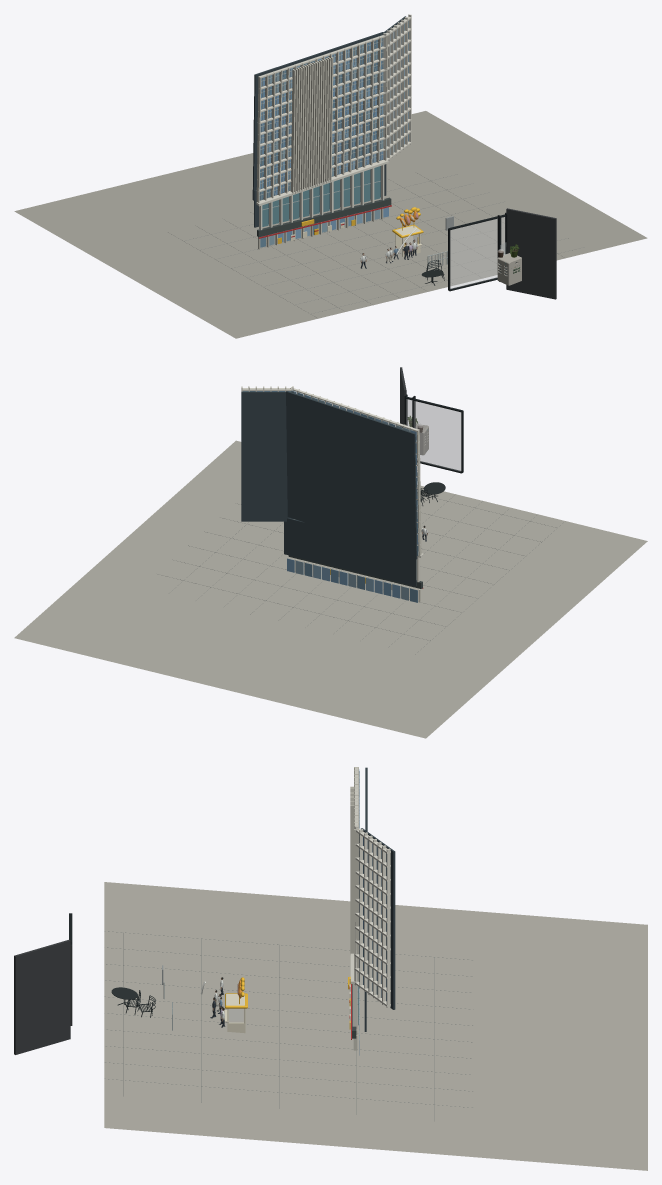
Rendered from scene-0-ours.glb.
The picture shows the model from 3 angles, top to bottom: view 1: azimuth 30°, elevation 25°; view 2: azimuth 150°, elevation 25°; view 3: azimuth 270°, elevation 25°; orthographic projection. The views are drawn at different scales.
Parts seen in each view (by area): view 1: Exterior paving plane, Right interior wall, Main clear window pane, Main facade backing shell, Dark storefront sign fascia, Street level recessed shell, Rounded rental kiosk cabinet, Main facade heavy lower cornice, Dense projecting vertical architectural fin 0; view 2: Exterior paving plane, Main facade backing shell, Return facade interior shell, Street level recessed shell, Main clear window pane; view 3: Exterior paving plane, Right interior wall, Return facade interior shell, Return facade upright 7, Return facade upright 5, Return facade upright 3, High rise vertical stone rib 18, Dense projecting vertical architectural fin 17.
Part boxes in pixels (box(x1,y1,x2,y2)): Exterior paving plane: box(14, 111, 647, 338); Right interior wall: box(506, 208, 556, 299); Main clear window pane: box(450, 219, 497, 288); Main facade backing shell: box(252, 32, 383, 200); Dark storefront sign fascia: box(257, 197, 391, 237); Street level recessed shell: box(254, 162, 386, 227); Rounded rental kiosk cabinet: box(497, 257, 521, 285); Main facade heavy lower cornice: box(256, 160, 388, 206); Dense projecting vertical architectural fin 0: box(290, 69, 295, 194); Exterior paving plane: box(14, 440, 647, 738); Main facade backing shell: box(286, 391, 417, 559); Return facade interior shell: box(241, 391, 293, 521); Street level recessed shell: box(284, 518, 416, 586); Main clear window pane: box(414, 401, 460, 471); Exterior paving plane: box(104, 882, 647, 1170); Right interior wall: box(14, 940, 70, 1054); Return facade interior shell: box(361, 828, 395, 1009); Return facade upright 7: box(386, 848, 390, 1007); Return facade upright 5: box(377, 842, 381, 1001); Return facade upright 3: box(368, 835, 372, 995); High rise vertical stone rib 18: box(354, 829, 358, 981); Dense projecting vertical architectural fin 17: box(350, 805, 353, 954).
Bounding box in the file's own units: 30 × 14.15 × 32.66.
